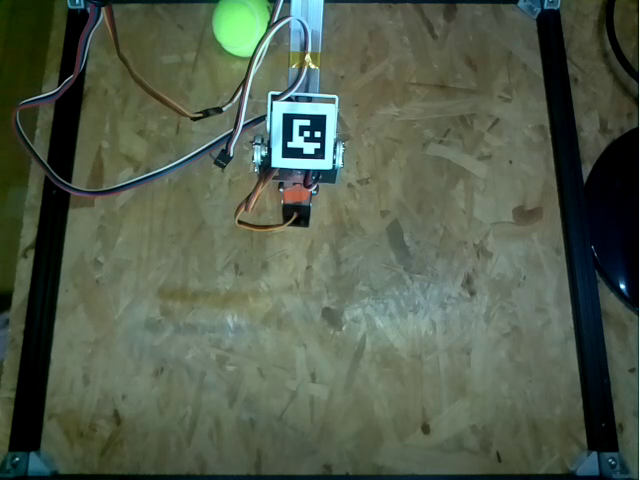tennis_ball: (209, 1, 278, 56)
